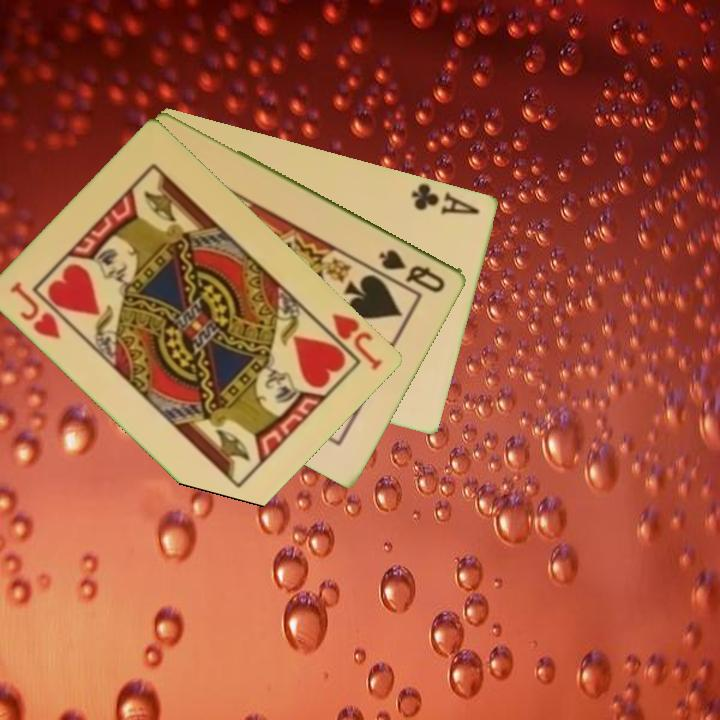Ac: (408, 179, 483, 218)
Jh: (329, 309, 387, 373), (7, 277, 64, 342)
Qs: (375, 245, 449, 296)
